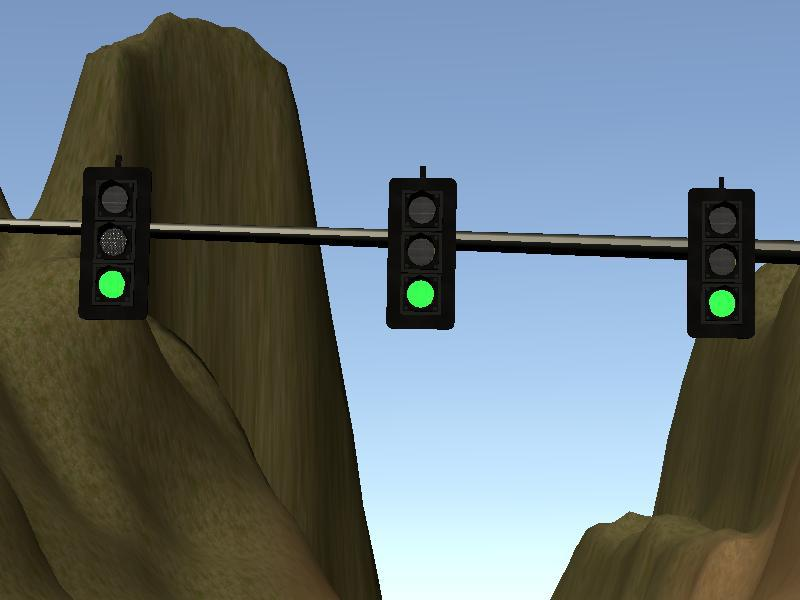Green: (79, 166, 150, 319), (684, 187, 755, 340), (386, 178, 457, 331)
